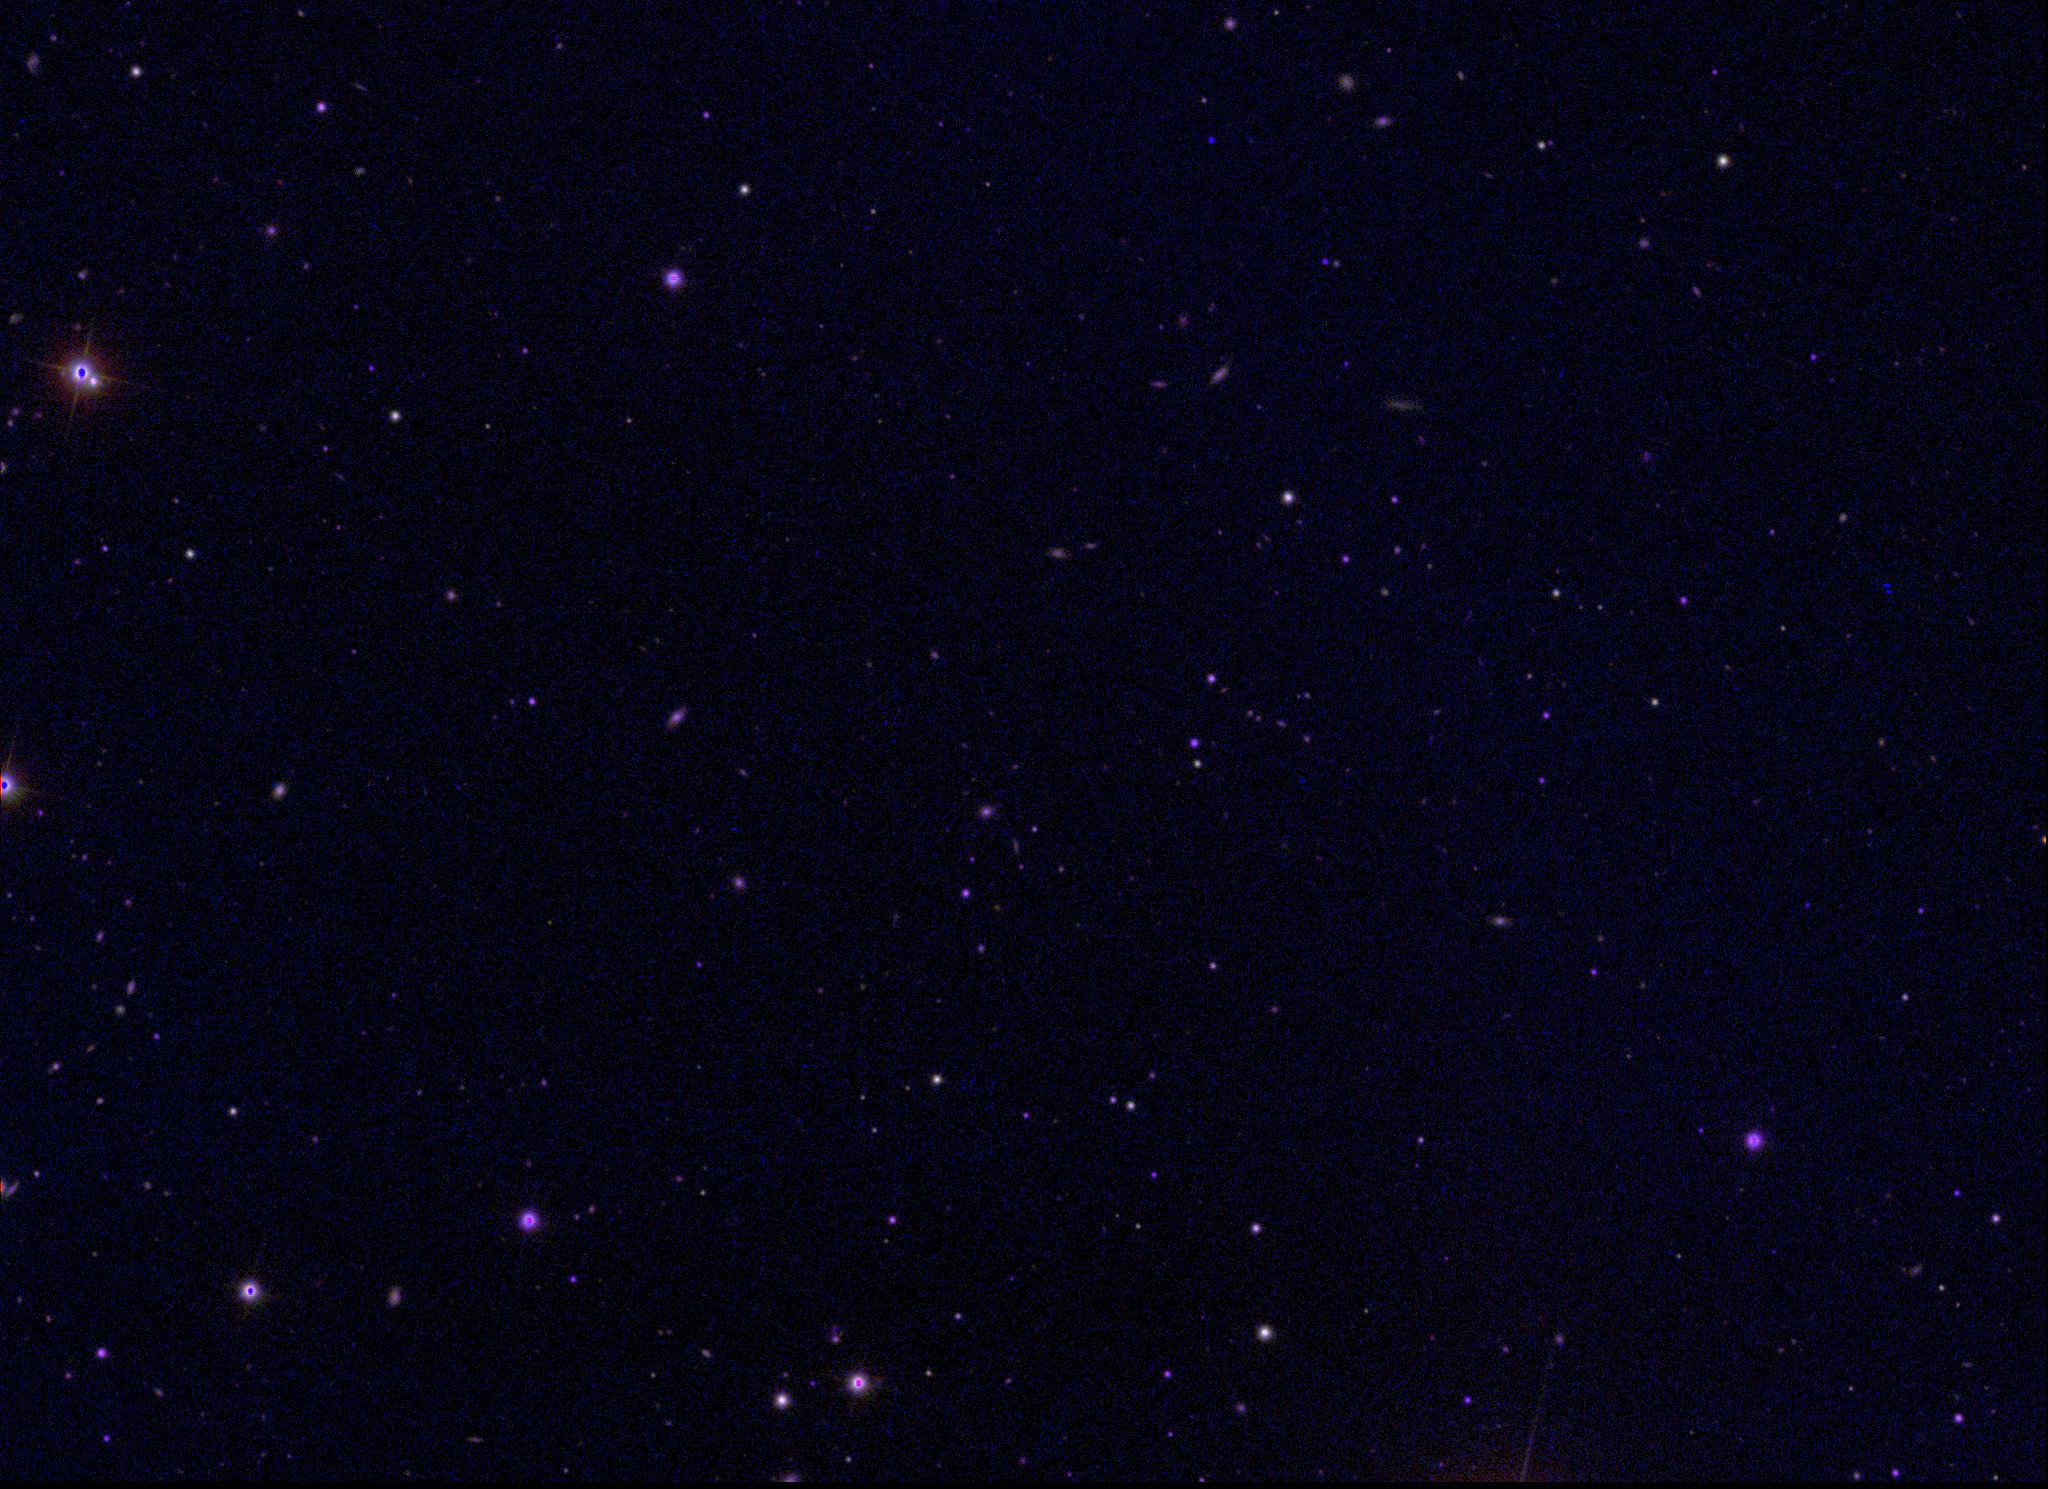L: (1205, 132, 1220, 146)
